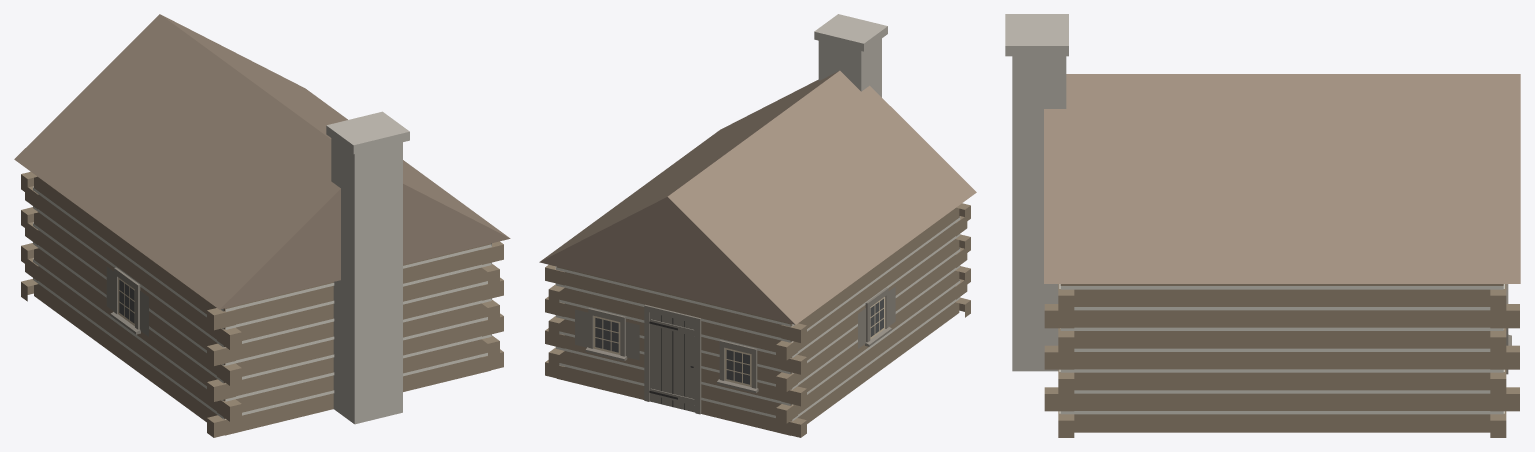
Rendered from recon_1835_blk_randolph_clark_d1_06__inferred_1835.glb.
The picture shows the model from 3 angles, left to right: view 1: azimuth 30°, elevation 25°; view 2: azimuth 150°, elevation 25°; view 3: azimuth 270°, elevation 25°; orthographic projection. The views are drawn at different scales.
Visible parts, largest first — view 1: recon_1835_blk_randolph_clark_d1_06__inferred_1835; view 2: recon_1835_blk_randolph_clark_d1_06__inferred_1835; view 3: recon_1835_blk_randolph_clark_d1_06__inferred_1835.
Boxes of the visible parts, x1,y1,x2,y2 form: recon_1835_blk_randolph_clark_d1_06__inferred_1835: (14,14,510,437); recon_1835_blk_randolph_clark_d1_06__inferred_1835: (539,14,976,437); recon_1835_blk_randolph_clark_d1_06__inferred_1835: (1005,14,1520,437).
Size of the model in its own units: 5.78 by 5.35 by 7.63.
